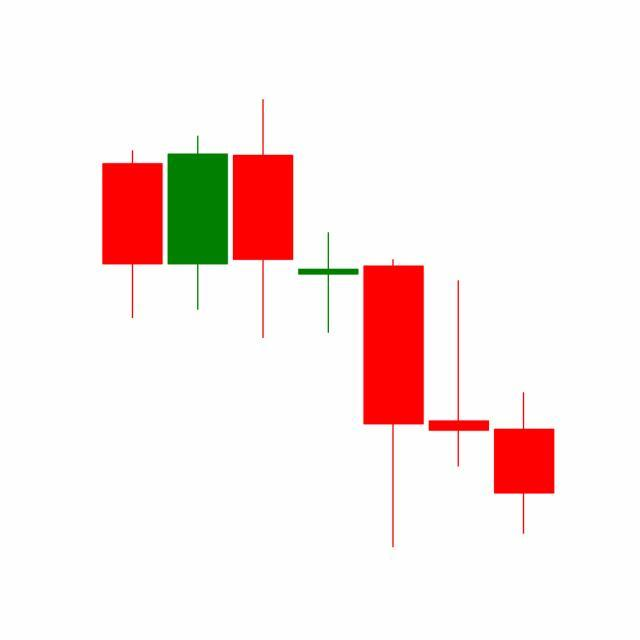Three Outside Up-Down: (295, 229, 492, 549)
